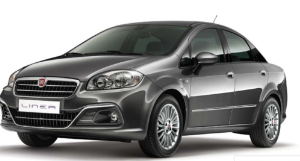car: (1, 11, 290, 159)
